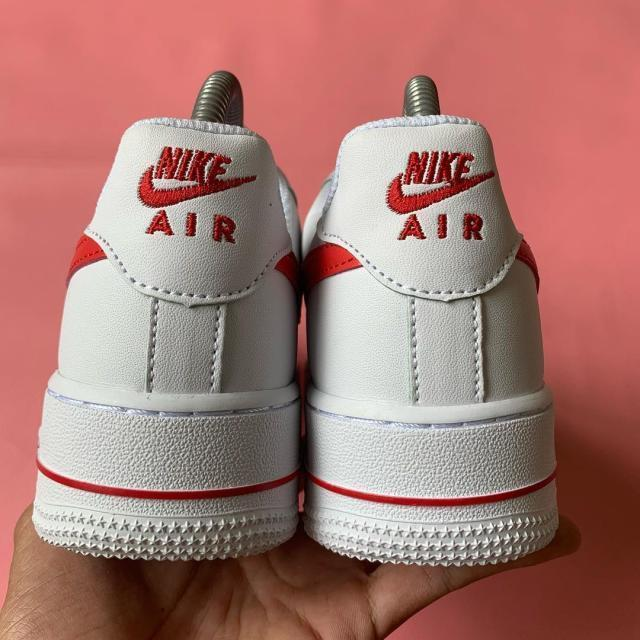nike fake air force: (301, 108, 554, 566), (36, 115, 300, 550)
